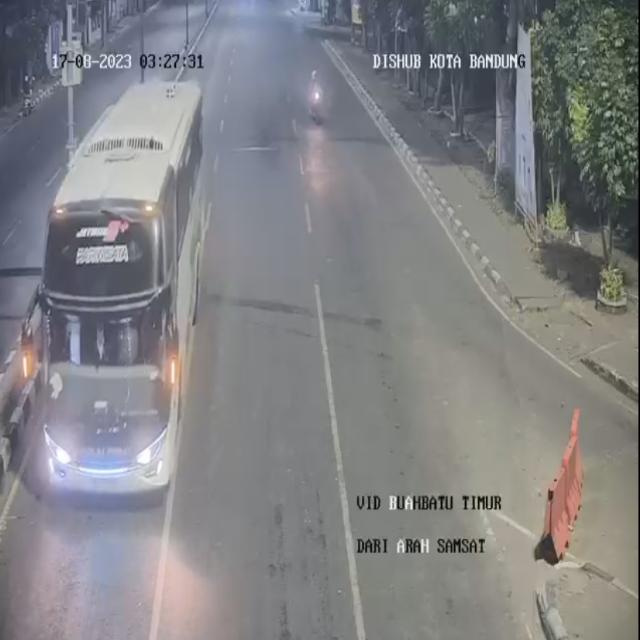bus: (30, 76, 205, 497)
motorcycle: (306, 64, 324, 138)
